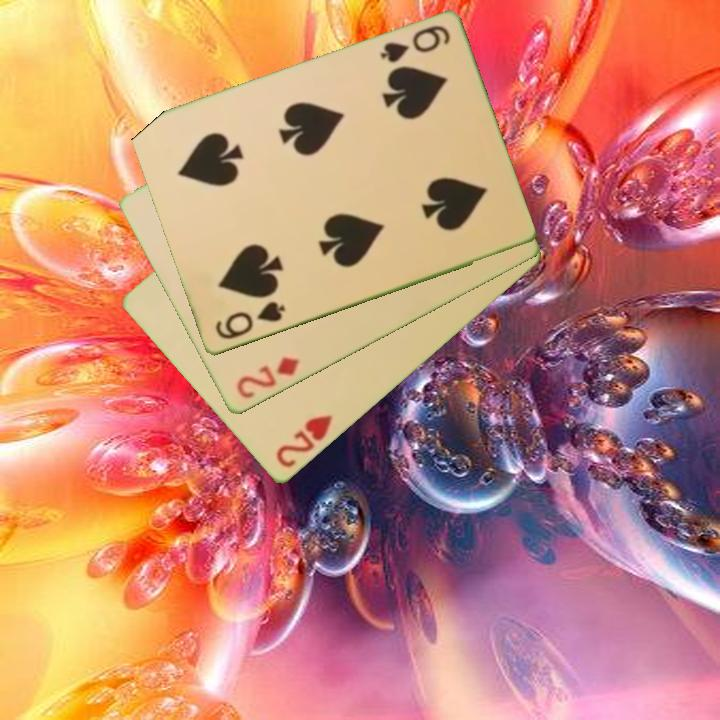2d: (232, 353, 302, 403)
2h: (272, 412, 336, 472)
6s: (211, 298, 288, 343), (376, 22, 453, 67)
